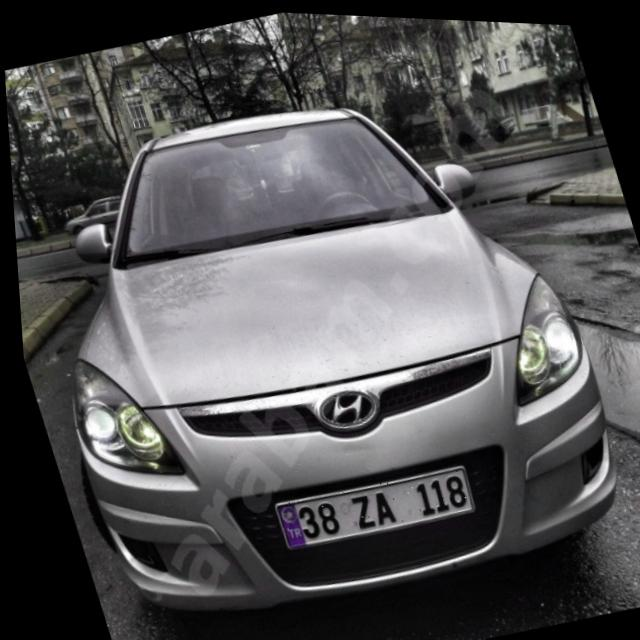license_plate: (265, 455, 472, 553)
